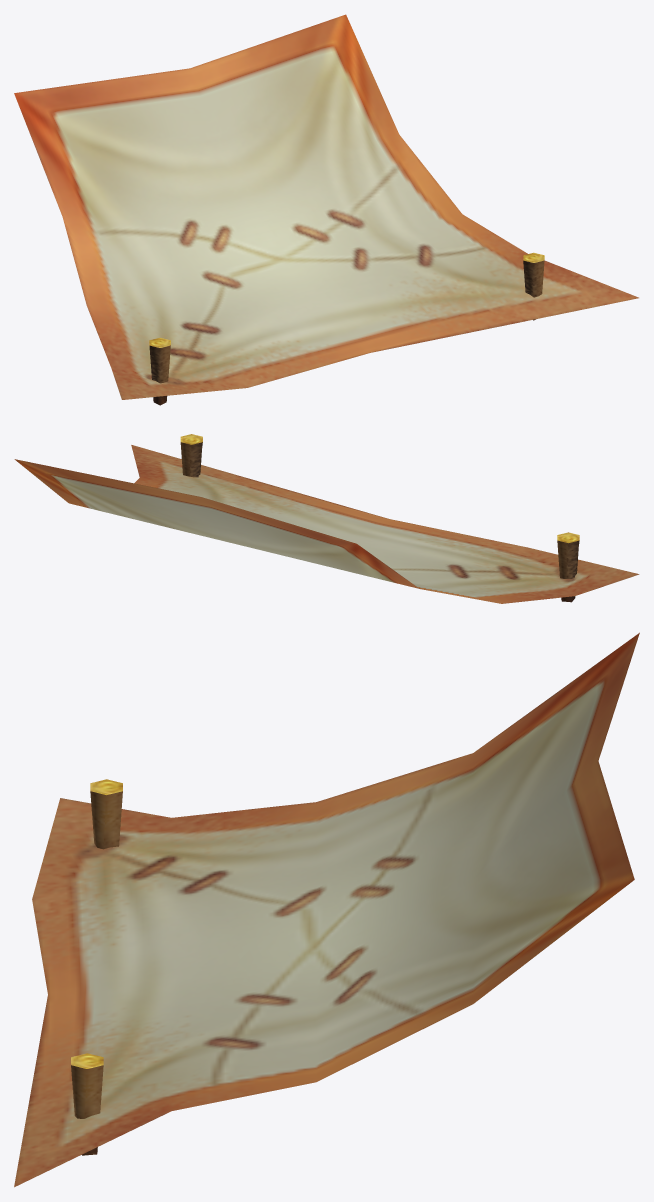
File: tanwei04.FBX
3 views of the same model, one above another, from view 1: azimuth 30°, elevation 25°; view 2: azimuth 150°, elevation 25°; view 3: azimuth 270°, elevation 25° (orthographic). The views are drawn at different scales.
Visible parts, largest first — view 1: 对象053; view 2: 对象053; view 3: 对象053.
Boxes of the visible parts, bbox=[...] form: 对象053: bbox=[14, 14, 638, 405]; 对象053: bbox=[14, 434, 639, 603]; 对象053: bbox=[14, 632, 639, 1187].
Size of the model in its own units: 214 by 71.12 by 151.
